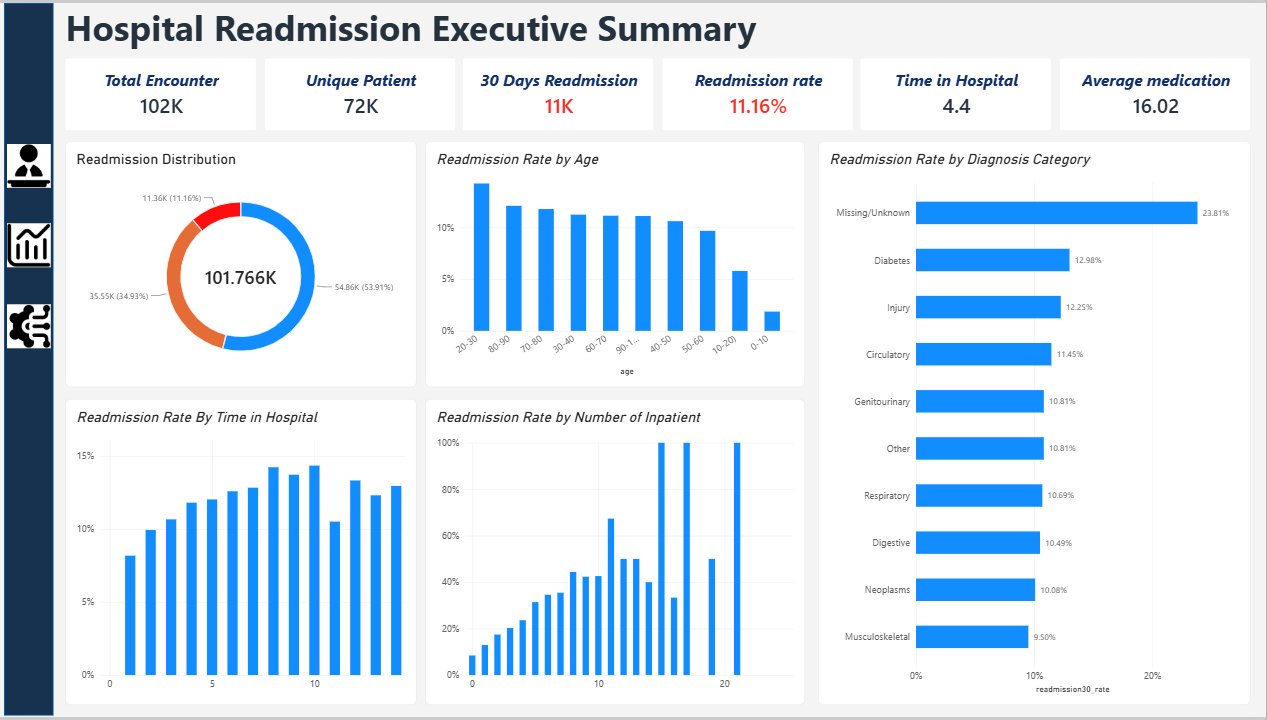

Layout of this report page (visuals, bound fields, positions):
{"tool":"powerbi","page":{"name":"Hospital Readmission Executive Summary","canvas":[1920,1080],"ordinal":0},"visuals":[{"type":"shape","box":[9.1,0,75,1078.9],"z":0},{"type":"textbox","box":[102.2,0,1063,84],"z":2000},{"type":"cardVisual","fields":{"Data":["Logistic VS Radom forest.Total Encounter"]},"box":[102.2,84,288.9,108.9],"z":3000},{"type":"cardVisual","fields":{"Data":["Measures_data.Average medication"]},"box":[1608.1,84,288.9,108.9],"z":4000},{"type":"cardVisual","fields":{"Data":["Measures_data.30 Days Readmission"]},"box":[704.6,84,288.9,108.9],"z":5000},{"type":"cardVisual","fields":{"Data":["Measures_data.30 days readmission rate"]},"box":[1005.7,84,288.9,108.9],"z":6000},{"type":"cardVisual","fields":{"Data":["Measures_data.Average length of stay"]},"box":[1306.9,84,288.9,108.9],"z":7000},{"type":"cardVisual","fields":{"Data":["Measures_data.Unique Patient"]},"box":[403.4,84,288.9,108.9],"z":8000},{"type":"donutChart","title":"Readmission Distribution","fields":{"Category":["diabetic_data_with_diagnosis_category.readmitted"],"Y":["CountNonNull(diabetic_data_with_diagnosis_category.readmitted)"]},"box":[102.2,209,531.5,372.5],"z":9000},{"type":"clusteredColumnChart","title":"Readmission Rate by Age","fields":{"Category":["diabetic_data_with_diagnosis_category.age"],"Y":["diabetic_data_with_diagnosis_category.readmission30_rate"]},"box":[647.3,209,574.6,372.5],"z":10000},{"type":"clusteredBarChart","title":"Readmission Rate by Diagnosis Category","fields":{"Category":["diabetic_data_with_diagnosis_category.diag_1_category"],"Y":["diabetic_data_with_diagnosis_category.readmission30_rate"]},"box":[1242.4,209,654.1,854],"z":11000},{"type":"clusteredColumnChart","title":"Readmission Rate By Time in Hospital","fields":{"Category":["diabetic_data_with_diagnosis_category.time_in_hospital"],"Y":["diabetic_data_with_diagnosis_category.readmission30_rate"]},"box":[102.2,599.6,531.5,463.3],"z":12000},{"type":"clusteredColumnChart","title":"Readmission Rate by Number of Inpatient","fields":{"Category":["diabetic_data_with_diagnosis_category.number_inpatient"],"Y":["diabetic_data_with_diagnosis_category.readmission30_rate"]},"box":[647.3,599.6,574.6,463.3],"z":13000},{"type":"image","box":[13.6,213.5,65.9,65.9],"z":15000},{"type":"image","box":[13.6,333.9,65.9,65.9],"z":16000},{"type":"image","box":[13.6,456.5,65.9,65.9],"z":17000}]}

Visuals, with their boxes on the page's 1920x1080 design canvas (x1, y1, x2, y2). These are canvas units, not pixel positions in the 1267x720 screenshot, which may show the page scaled, cropped or inside an application window:
shape: detection(9, 0, 84, 1079)
textbox: detection(102, 0, 1165, 84)
cardVisual - Logistic VS Radom forest.Total Encounter: detection(102, 84, 391, 193)
cardVisual - Measures_data.Average medication: detection(1608, 84, 1897, 193)
cardVisual - Measures_data.30 Days Readmission: detection(705, 84, 994, 193)
cardVisual - Measures_data.30 days readmission rate: detection(1006, 84, 1295, 193)
cardVisual - Measures_data.Average length of stay: detection(1307, 84, 1596, 193)
cardVisual - Measures_data.Unique Patient: detection(403, 84, 692, 193)
"Readmission Distribution" donutChart: detection(102, 209, 634, 582)
"Readmission Rate by Age" clusteredColumnChart: detection(647, 209, 1222, 582)
"Readmission Rate by Diagnosis Category" clusteredBarChart: detection(1242, 209, 1896, 1063)
"Readmission Rate By Time in Hospital" clusteredColumnChart: detection(102, 600, 634, 1063)
"Readmission Rate by Number of Inpatient" clusteredColumnChart: detection(647, 600, 1222, 1063)
image: detection(14, 214, 80, 279)
image: detection(14, 334, 80, 400)
image: detection(14, 456, 80, 522)
